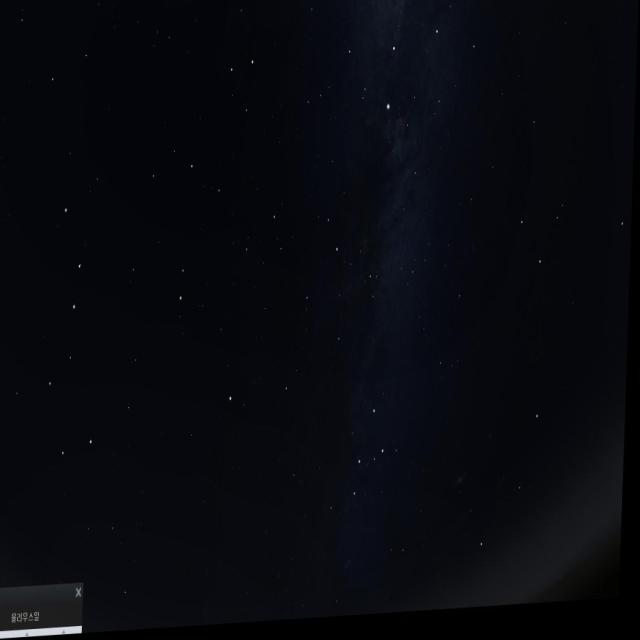cassiopeia: (328, 403, 411, 519)
cygnus: (332, 0, 446, 137)
ursa_major: (42, 196, 108, 474)
